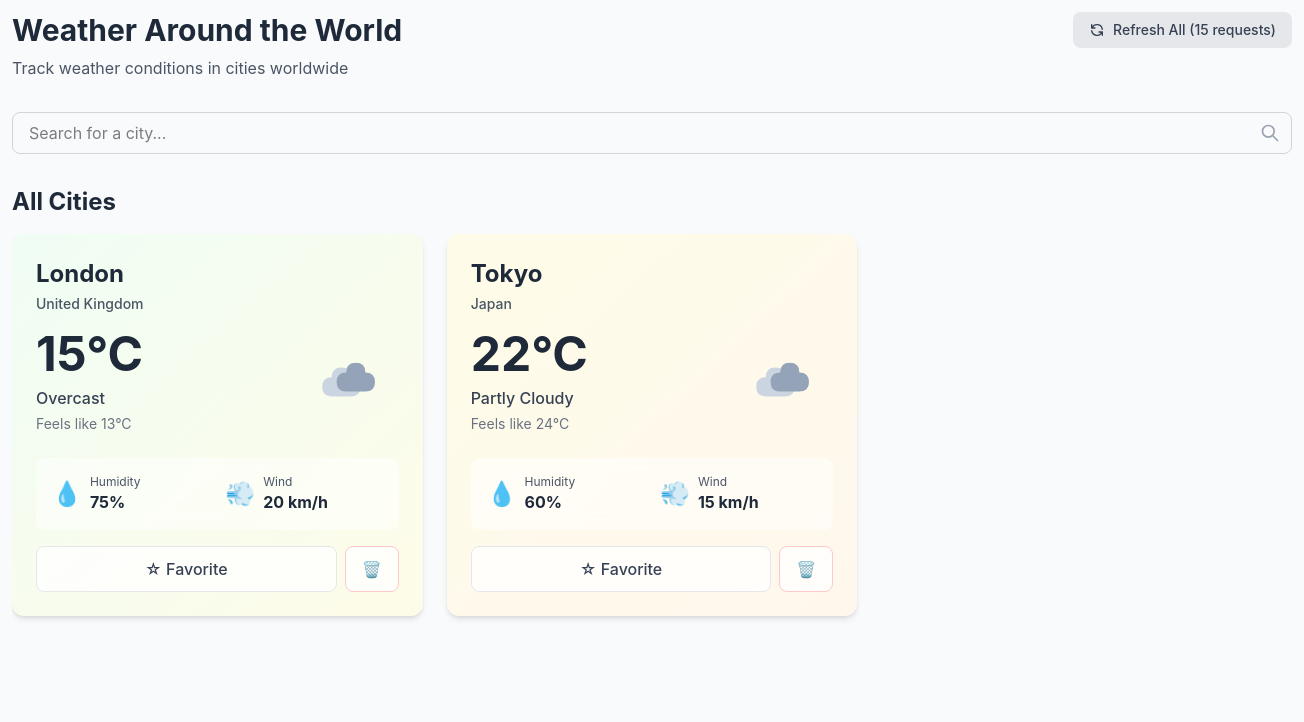
Test case: Favorites Flow Integration › should move favorited cities to the top of the list
This screenshot has width=1304, height=722.
Check: the heading "London" is shown, box x1=36 y1=259 x2=124 y2=288
Click the button "☆ Favorite" below "60": click(621, 569) x1=471 y1=546 x2=771 y2=592
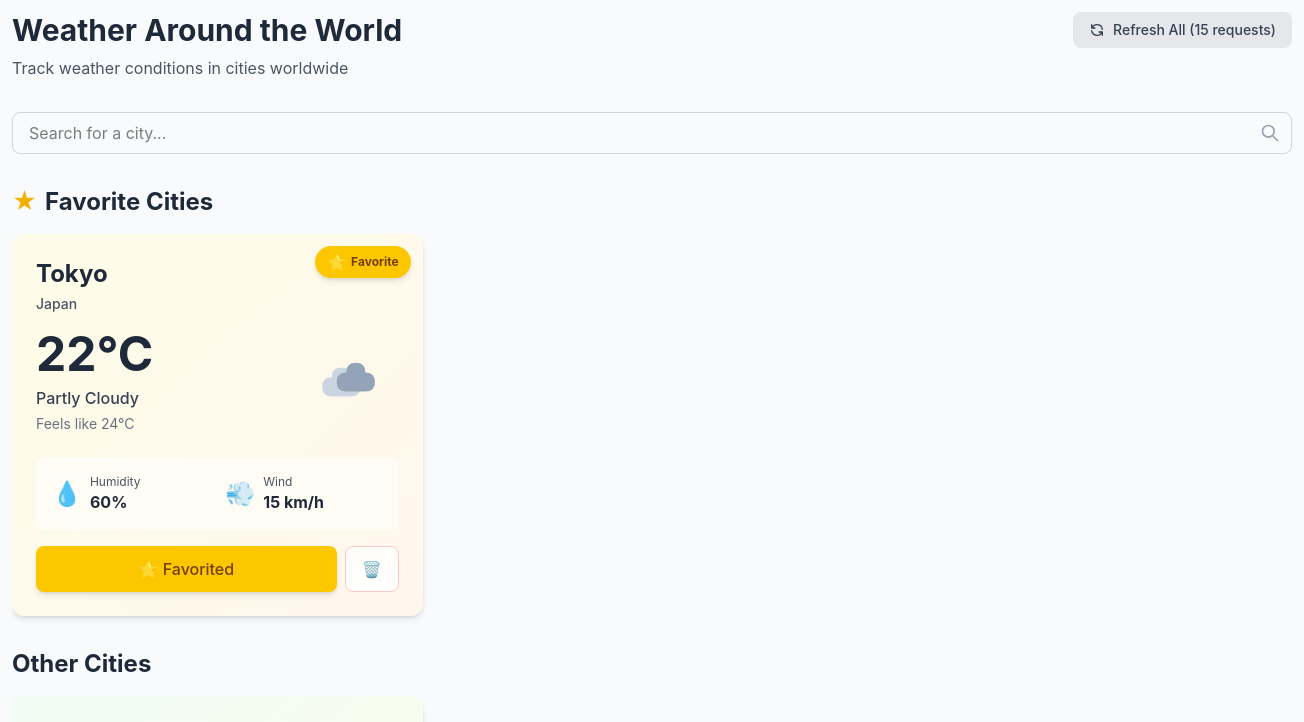
Check: the heading "★ Favorite Cities" is shown, box x1=12 y1=187 x2=213 y2=216
